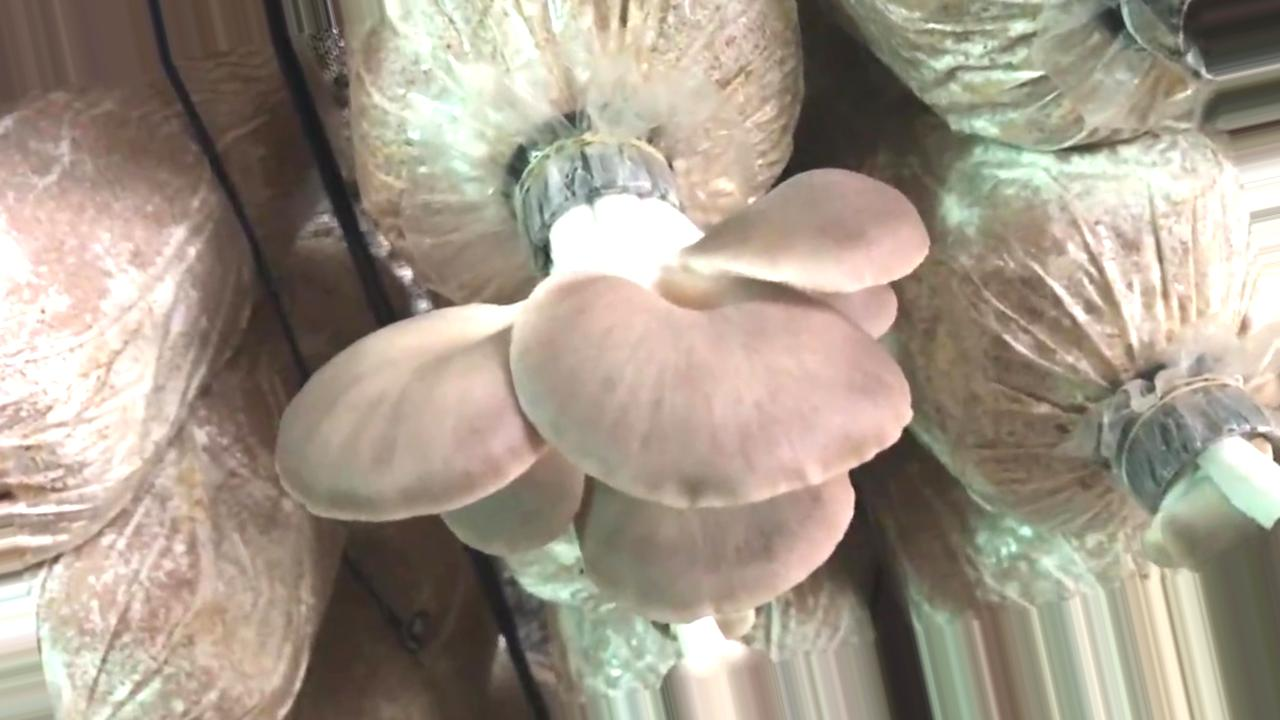nam: (278, 136, 930, 619), (1139, 379, 1280, 572), (660, 607, 781, 720)
